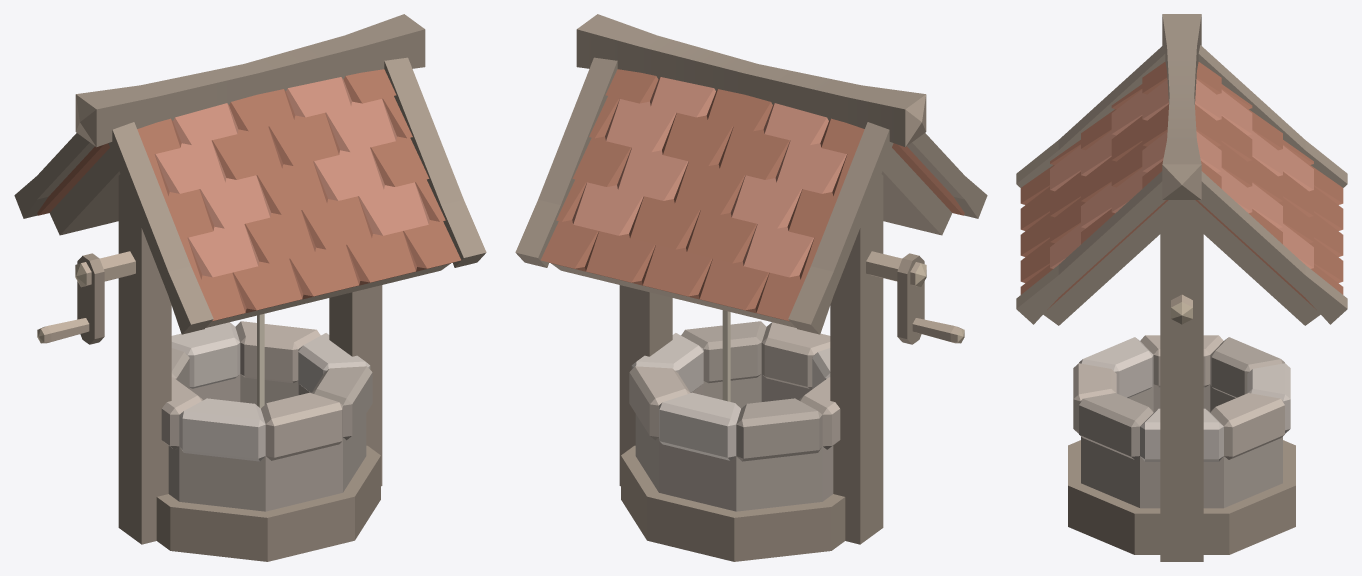
File: Prop_Well_1.glb
3 renders of one model, left to right at view 1: azimuth 30°, elevation 25°; view 2: azimuth 150°, elevation 25°; view 3: azimuth 270°, elevation 25°, orthographic. The views are drawn at different scales.
Visible parts, largest first — view 1: Prop_Well_1.7, Prop_Well_1.3, Prop_Well_1.12, Prop_Well_1.11, Prop_Well_1.6, Prop_Well_1.14, Prop_Well_1.8, Prop_Well_1.9, Prop_Well_1.2, Prop_Well_1.13, Prop_Well_1.10, Prop_Well_1.1 (+2 smaller); view 2: Prop_Well_1.7, Prop_Well_1.3, Prop_Well_1.12, Prop_Well_1.11, Prop_Well_1.6, Prop_Well_1.14, Prop_Well_1.13, Prop_Well_1.0, Prop_Well_1.2, Prop_Well_1.8, Prop_Well_1.10, Prop_Well_1.1 (+2 smaller); view 3: Prop_Well_1.7, Prop_Well_1.3, Prop_Well_1.2, Prop_Well_1.6, Prop_Well_1.14, Prop_Well_1.11, Prop_Well_1.0, Prop_Well_1.9, Prop_Well_1.8, Prop_Well_1.13, Prop_Well_1.1.
Part boxes in pixels (bbox=[...]): Prop_Well_1.7: bbox=[37, 69, 460, 327]; Prop_Well_1.3: bbox=[161, 321, 372, 461]; Prop_Well_1.12: bbox=[118, 174, 171, 544]; Prop_Well_1.11: bbox=[75, 14, 425, 147]; Prop_Well_1.6: bbox=[156, 445, 380, 561]; Prop_Well_1.14: bbox=[168, 374, 366, 511]; Prop_Well_1.8: bbox=[108, 122, 213, 334]; Prop_Well_1.9: bbox=[384, 57, 486, 267]; Prop_Well_1.2: bbox=[329, 285, 382, 486]; Prop_Well_1.13: bbox=[14, 133, 94, 218]; Prop_Well_1.10: bbox=[77, 253, 104, 344]; Prop_Well_1.1: bbox=[75, 251, 135, 287]; Prop_Well_1.7: bbox=[541, 69, 964, 327]; Prop_Well_1.3: bbox=[629, 321, 840, 461]; Prop_Well_1.12: bbox=[830, 174, 883, 544]; Prop_Well_1.11: bbox=[576, 14, 926, 147]; Prop_Well_1.6: bbox=[621, 445, 845, 561]; Prop_Well_1.14: bbox=[635, 374, 833, 511]; Prop_Well_1.13: bbox=[788, 122, 893, 334]; Prop_Well_1.0: bbox=[515, 57, 617, 267]; Prop_Well_1.2: bbox=[619, 285, 672, 486]; Prop_Well_1.8: bbox=[907, 133, 987, 218]; Prop_Well_1.10: bbox=[897, 253, 924, 344]; Prop_Well_1.1: bbox=[866, 251, 926, 287]; Prop_Well_1.7: bbox=[1020, 62, 1343, 325]; Prop_Well_1.3: bbox=[1073, 335, 1290, 461]; Prop_Well_1.2: bbox=[1160, 215, 1203, 561]; Prop_Well_1.6: bbox=[1068, 440, 1295, 554]; Prop_Well_1.14: bbox=[1081, 384, 1282, 508]; Prop_Well_1.11: bbox=[1162, 14, 1201, 199]; Prop_Well_1.0: bbox=[1198, 171, 1347, 324]; Prop_Well_1.9: bbox=[1016, 171, 1165, 324]; Prop_Well_1.8: bbox=[1016, 45, 1165, 187]; Prop_Well_1.13: bbox=[1198, 45, 1347, 187]; Prop_Well_1.1: bbox=[1171, 294, 1192, 324].
Bounding box in the file's own units: 1.36 × 1.51 × 1.09.
